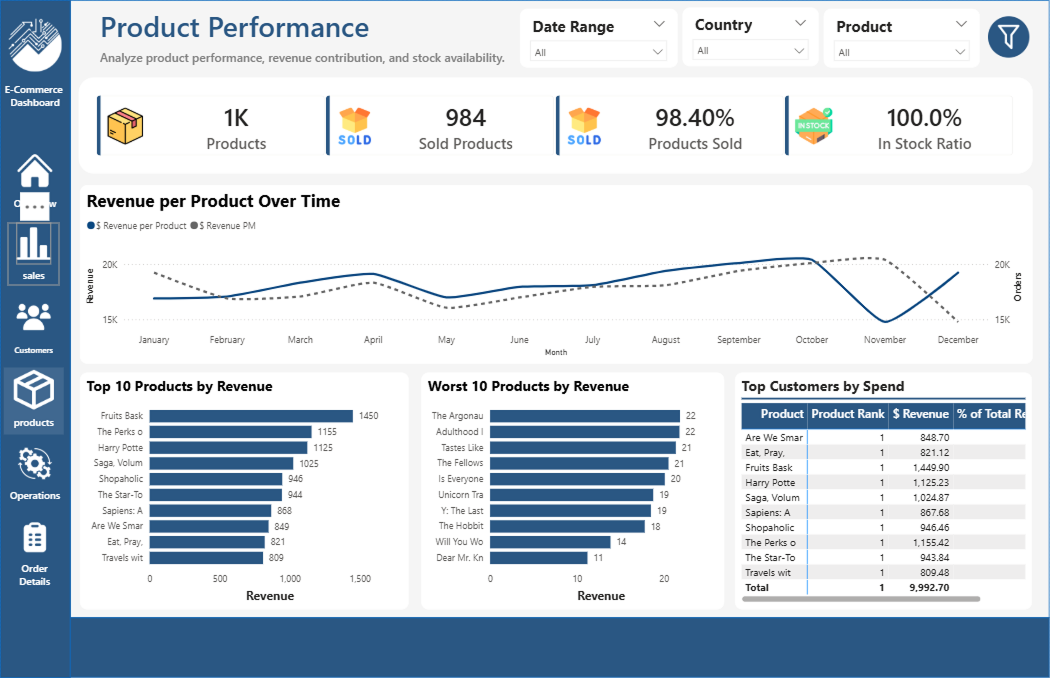

This screenshot's page, from the dashboard's own definition file:
{"tool":"powerbi","page":{"name":"Product Performance","canvas":[1400,920],"ordinal":3},"visuals":[{"type":"shape","box":[94,0,1306,824],"z":0},{"type":"image","box":[19,490.3,53.3,59.1],"z":0,"group":"g3"},{"type":"image","box":[22.6,590.8,46.7,55.8],"z":0,"group":"g5"},{"type":"image","box":[22.8,688.5,46.7,55.8],"z":0,"group":"g6"},{"type":"textbox","box":[5.7,549.4,80,30.9],"z":1000,"group":"g3"},{"type":"textbox","box":[6.8,647.1,80,29.2],"z":1000,"group":"g5"},{"type":"textbox","box":[12,744,69,51],"z":1000,"group":"g6"},{"type":"shape","box":[94,824,1306,80],"z":1000},{"type":"shape","box":[0,0,94,904],"z":2000},{"type":"lineChart","title":" Revenue per Product Over Time","fields":{"Category":["DateTable.Date.Variation.Date Hierarchy.Month"],"Y":["_Measures.$ Revenue per Product"],"Y2":["_Measures.$ Revenue PM"]},"box":[106,246,1270,238],"z":3000},{"type":"cardVisual","fields":{"Data":["_Measures.# Products","_Measures.# Sold Products","_Measures.% Products Sold","_Measures.% In Stock Ratio"]},"box":[105,103.3,1271.7,128.3],"z":4000},{"type":"image","box":[12,24,70,74],"z":5000},{"type":"textbox","box":[128.3,5,376.7,71.7],"z":6000},{"type":"pivotTable","title":"Top Customers by Spend","fields":{"Rows":["products.Product"],"Values":["_Measures.Product Rank","_Measures.$ Revenue","_Measures.% of Total Revenue"]},"box":[980,496,396,316],"z":7000},{"type":"textbox","box":[128,60,620,38],"z":8000},{"type":"image","box":[1313.3,21.7,63.3,55],"z":9000},{"type":"slicer","fields":{"Values":["customers.country"]},"box":[910.5,10,181.8,78.2],"z":10000},{"type":"slicer","fields":{"Values":["products.Product"]},"box":[1099.1,10.9,208.2,78.2],"z":11000},{"type":"textbox","box":[0,104.3,93.5,48.7],"z":12000},{"type":"group","id":"g1","title":"Group 1","box":[11.7,200,70,85],"z":13000},{"type":"group","id":"g2","title":"Group 2","box":[10,297.5,70,85],"z":14000},{"type":"group","id":"g3","title":"Group 4","box":[5.7,490.3,80,90],"z":15000},{"type":"group","id":"g4","title":"Group 2","box":[9.2,394.9,70,85],"z":16000},{"type":"barChart","title":"Top 10 Products by Revenue","fields":{"Category":["products.Product"],"Y":["_Measures.$ Revenue"]},"box":[106,496,438,316],"z":17000},{"type":"slicer","fields":{"Values":["DateTable.Year","DateTable.Month"]},"box":[693.6,10.9,210,78.2],"z":18000},{"type":"barChart","title":"Worst 10 Products by Revenue","fields":{"Category":["products.Product"],"Y":["_Measures.$ Revenue"]},"box":[562,496,404,316],"z":19000},{"type":"image","box":[23.4,200,46.7,55.8],"z":20000,"group":"g1"},{"type":"group","id":"g5","title":"Group 4","box":[6.8,590.8,80,85.4],"z":20000},{"type":"textbox","box":[11.7,255.8,70,29.2],"z":21000,"group":"g1"},{"type":"group","id":"g6","title":"Group 4","box":[12,688.5,69,106.5],"z":21000},{"type":"image","box":[21.7,297.5,46.7,55.8],"z":22000,"group":"g2"},{"type":"image","box":[20.9,394.9,46.7,55.8],"z":22000,"group":"g4"},{"type":"textbox","box":[10,353.3,70,29.2],"z":23000,"group":"g2"},{"type":"textbox","box":[9.2,450.7,70,29.2],"z":23000,"group":"g4"}]}

Visuals, with their boxes on the page's 1400x920 design canvas (x1, y1, x2, y2). These are canvas units, not pixel positions in the 1050x678 screenshot, which may show the page scaled, cropped or inside an application window:
shape: BBox(94, 0, 1400, 824)
image: BBox(19, 490, 72, 549)
image: BBox(23, 591, 69, 647)
image: BBox(23, 688, 70, 744)
textbox: BBox(6, 549, 86, 580)
textbox: BBox(7, 647, 87, 676)
textbox: BBox(12, 744, 81, 795)
shape: BBox(94, 824, 1400, 904)
shape: BBox(0, 0, 94, 904)
" Revenue per Product Over Time" lineChart: BBox(106, 246, 1376, 484)
cardVisual - _Measures.# Products x _Measures.# Sold Products: BBox(105, 103, 1377, 232)
image: BBox(12, 24, 82, 98)
textbox: BBox(128, 5, 505, 77)
"Top Customers by Spend" pivotTable: BBox(980, 496, 1376, 812)
textbox: BBox(128, 60, 748, 98)
image: BBox(1313, 22, 1377, 77)
slicer - customers.country: BBox(910, 10, 1092, 88)
slicer - products.Product: BBox(1099, 11, 1307, 89)
textbox: BBox(0, 104, 94, 153)
"Group 1" group: BBox(12, 200, 82, 285)
"Group 2" group: BBox(10, 298, 80, 382)
"Group 4" group: BBox(6, 490, 86, 580)
"Group 2" group: BBox(9, 395, 79, 480)
"Top 10 Products by Revenue" barChart: BBox(106, 496, 544, 812)
slicer - DateTable.Year x DateTable.Month: BBox(694, 11, 904, 89)
"Worst 10 Products by Revenue" barChart: BBox(562, 496, 966, 812)
image: BBox(23, 200, 70, 256)
"Group 4" group: BBox(7, 591, 87, 676)
textbox: BBox(12, 256, 82, 285)
"Group 4" group: BBox(12, 688, 81, 795)
image: BBox(22, 298, 68, 353)
image: BBox(21, 395, 68, 451)
textbox: BBox(10, 353, 80, 382)
textbox: BBox(9, 451, 79, 480)
